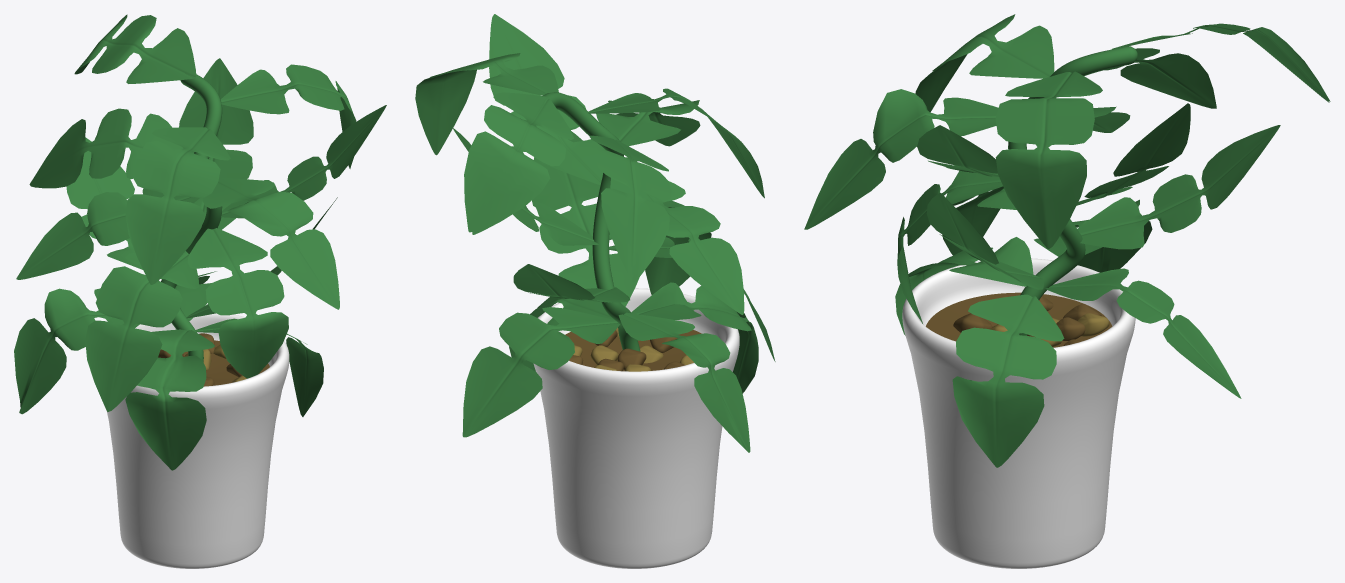
Rendered from bigleafplant.fbx.
3 renders of one model, left to right at view 1: azimuth 30°, elevation 25°; view 2: azimuth 150°, elevation 25°; view 3: azimuth 270°, elevation 25°, orthographic. The views are drawn at different scales.
Visible parts, largest first — view 1: r.0005, s.0050, s.0027, s.0030, s.0023, s.0047, s.0017, s.0021, s.0028, s.0014, s.0022, s.0019 (+6 smaller); view 2: r.0005, s.0014, s.0025, s.0021, s.0017, s.0028, s.0022, s.0020, s.0026, s.0023, s.0016, s.0047 (+7 smaller); view 3: r.0005, s.0022, s.0024, s.0047, s.0018, s.0025, s.0050, s.0019, s.0021, s.0016, s.0030, s.0026 (+7 smaller).
Boxes of the visible parts, x1,y1,x2,y2 form: r.0005: (107, 313, 289, 568); s.0050: (125, 127, 230, 284); s.0027: (85, 251, 198, 411); s.0030: (187, 228, 288, 378); s.0023: (125, 329, 214, 470); s.0047: (202, 177, 339, 309); s.0017: (14, 288, 139, 414); s.0021: (29, 108, 183, 188); s.0028: (16, 188, 199, 279); s.0014: (74, 14, 196, 83); s.0022: (220, 64, 356, 168); s.0019: (179, 58, 253, 229); r.0005: (533, 288, 739, 568); s.0014: (464, 92, 573, 234); s.0025: (462, 307, 619, 437); s.0021: (589, 135, 671, 282); s.0017: (618, 312, 750, 452); s.0028: (610, 178, 744, 314); s.0022: (415, 53, 558, 155); s.0020: (489, 14, 604, 185); s.0026: (532, 131, 639, 306); s.0023: (631, 282, 758, 393); s.0016: (542, 92, 640, 351); s.0047: (596, 100, 700, 146); r.0005: (902, 258, 1135, 568); s.0022: (995, 71, 1102, 248); s.0024: (952, 294, 1064, 467); s.0047: (804, 89, 998, 229); s.0018: (1077, 125, 1280, 249); s.0025: (1045, 268, 1241, 398); s.0050: (915, 14, 1054, 112); s.0019: (1076, 103, 1190, 205); s.0021: (1104, 48, 1216, 108); s.0016: (1008, 46, 1137, 335); s.0030: (897, 170, 1002, 323); s.0026: (926, 192, 1043, 289).
Size of the model in its own units: 0.3056 by 0.3702 by 0.4202.
